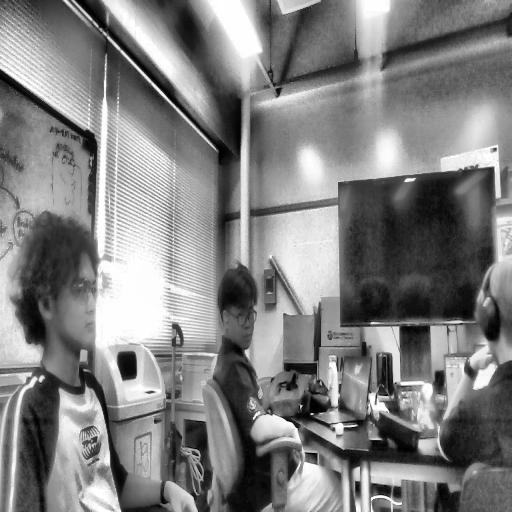Daifuku: (11, 214, 103, 364)
Not Daifuku: (215, 262, 260, 356), (475, 260, 512, 367)
